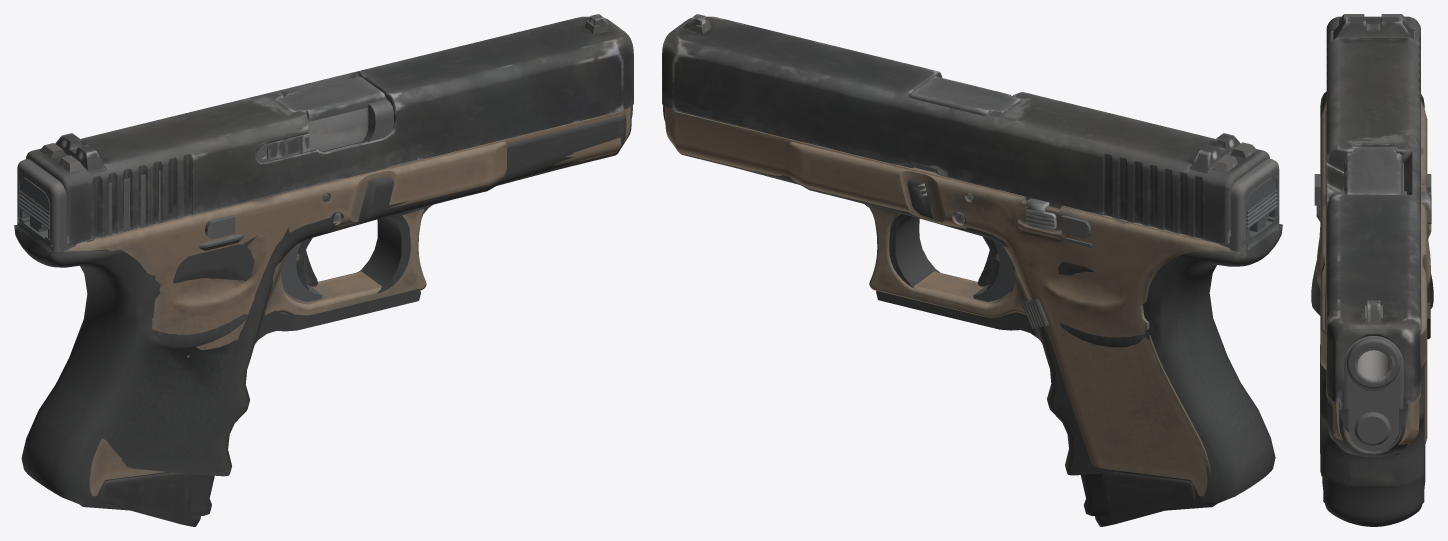
The model's file is weapon_glock.glb.
3 renders of one model, left to right at view 1: azimuth 30°, elevation 25°; view 2: azimuth 150°, elevation 25°; view 3: azimuth 270°, elevation 25°, orthographic. The views are drawn at different scales.
Visible parts, largest first — view 1: weapons/models/glock18/weapon_pist_glock18.vmdl_c.body_hd, weapons/models/glock18/weapon_pist_glock18.vmdl_c.body_legac; view 2: weapons/models/glock18/weapon_pist_glock18.vmdl_c.body_hd, weapons/models/glock18/weapon_pist_glock18.vmdl_c.body_legac; view 3: weapons/models/glock18/weapon_pist_glock18.vmdl_c.body_hd, weapons/models/glock18/weapon_pist_glock18.vmdl_c.body_legac.
Boxes of the visible parts, x1=… form: weapons/models/glock18/weapon_pist_glock18.vmdl_c.body_hd: x1=26, y1=14, x2=633, y2=526; weapons/models/glock18/weapon_pist_glock18.vmdl_c.body_legac: x1=14, y1=20, x2=631, y2=515; weapons/models/glock18/weapon_pist_glock18.vmdl_c.body_hd: x1=662, y1=14, x2=1269, y2=526; weapons/models/glock18/weapon_pist_glock18.vmdl_c.body_legac: x1=672, y1=20, x2=1282, y2=515; weapons/models/glock18/weapon_pist_glock18.vmdl_c.body_hd: x1=1316, y1=16, x2=1431, y2=526; weapons/models/glock18/weapon_pist_glock18.vmdl_c.body_legac: x1=1311, y1=14, x2=1433, y2=521.
Size of the model in its own units: 8 by 5.16 by 1.28.
2 materials, 2 textured.
